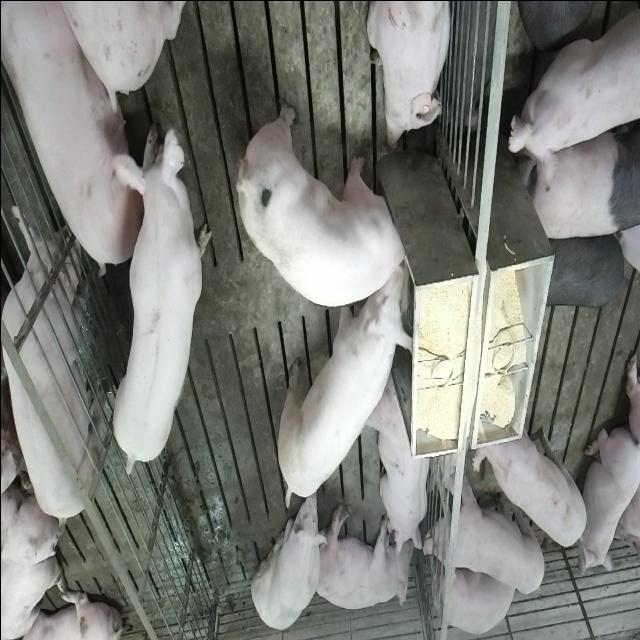Feeding: (232, 96, 408, 304), (274, 262, 412, 510)
Lateral_lying: (312, 501, 414, 611)
Sitting: (250, 485, 328, 632)
Standing: (109, 112, 208, 482), (0, 217, 104, 534), (504, 2, 638, 190), (473, 404, 588, 548), (421, 468, 545, 598), (522, 110, 638, 240)
Sternal_lying: (365, 0, 454, 149), (368, 374, 432, 556), (580, 418, 638, 573)
